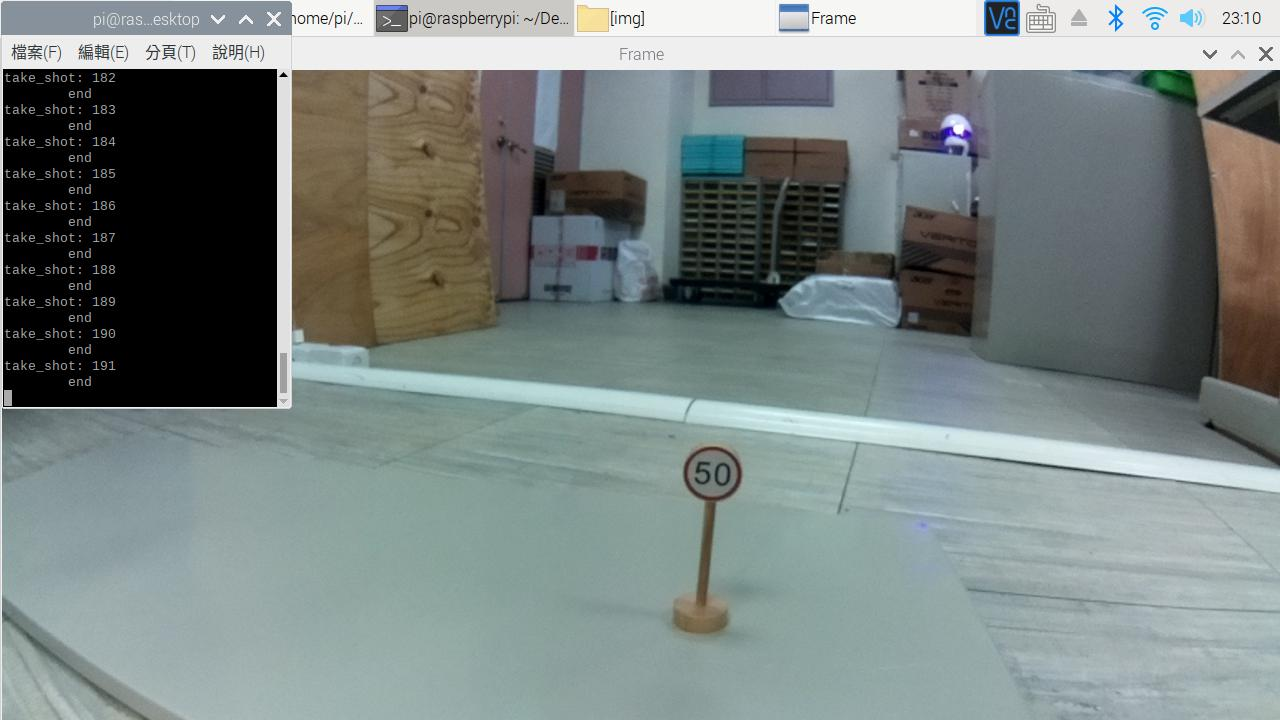Speed50: (682, 434, 753, 513)
